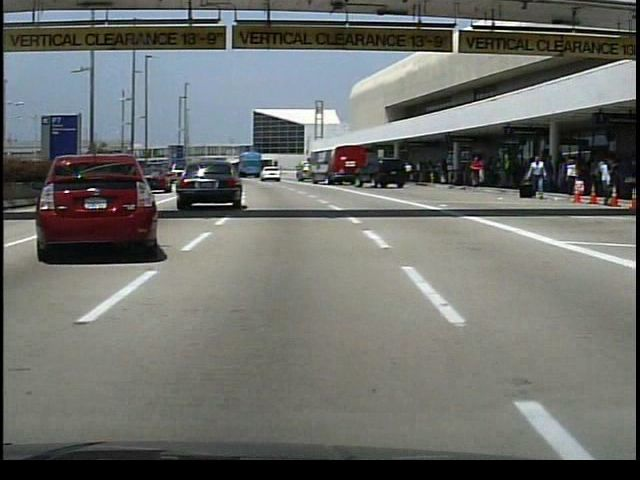person: (522, 153, 545, 200), (467, 156, 485, 188), (402, 162, 414, 186)
